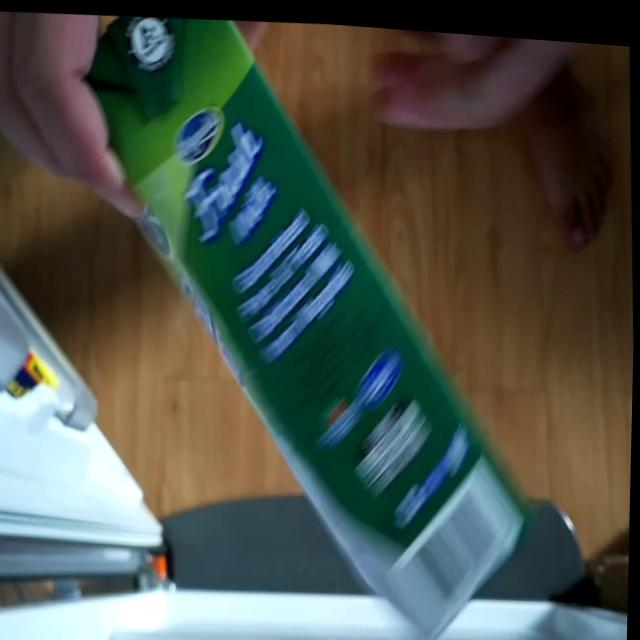milk: (36, 3, 552, 640)
